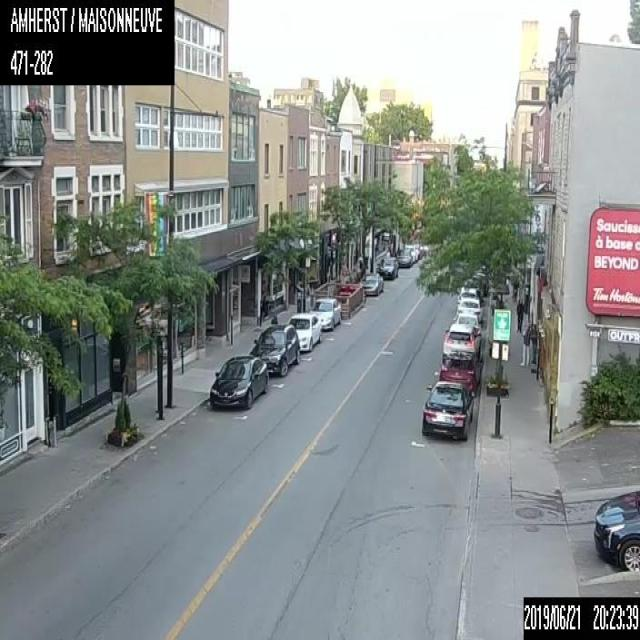pedestrian: (519, 324, 530, 366), (530, 323, 537, 365), (516, 297, 523, 332)
vehicle: (593, 488, 639, 573), (421, 380, 474, 440), (209, 354, 267, 408), (249, 324, 299, 376), (438, 352, 478, 395), (442, 322, 481, 361), (287, 312, 321, 350), (308, 297, 341, 328), (455, 297, 483, 319), (456, 285, 479, 306), (454, 312, 480, 330), (376, 256, 398, 277), (362, 272, 382, 294), (395, 248, 412, 266)
